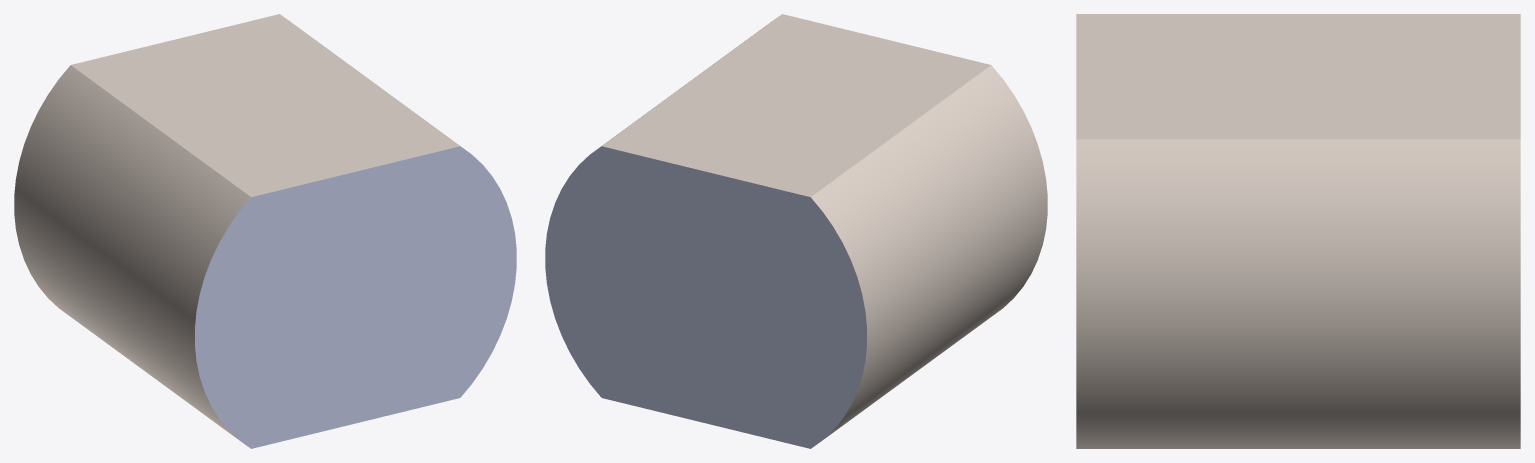
File: Gear_Motor__1__Split1_2__1_.obj
The picture shows the model from 3 angles, left to right: view 1: azimuth 30°, elevation 25°; view 2: azimuth 150°, elevation 25°; view 3: azimuth 270°, elevation 25°; orthographic projection. The views are drawn at different scales.
Parts seen in each view (by area): view 1: mesh7500, mesh7505, mesh7501; view 2: mesh7502, mesh7505, mesh7501; view 3: mesh7503, mesh7501.
Part boxes in pixels (<box>): mesh7500: <box>195,146,516,448</box>; mesh7505: <box>14,65,250,438</box>; mesh7501: <box>71,14,459,197</box>; mesh7502: <box>545,146,866,448</box>; mesh7505: <box>811,65,1047,438</box>; mesh7501: <box>602,14,990,197</box>; mesh7503: <box>1076,139,1520,448</box>; mesh7501: <box>1076,14,1520,139</box>.
Size of the model in its own units: 0.0205 by 0.0153 by 0.0199.
